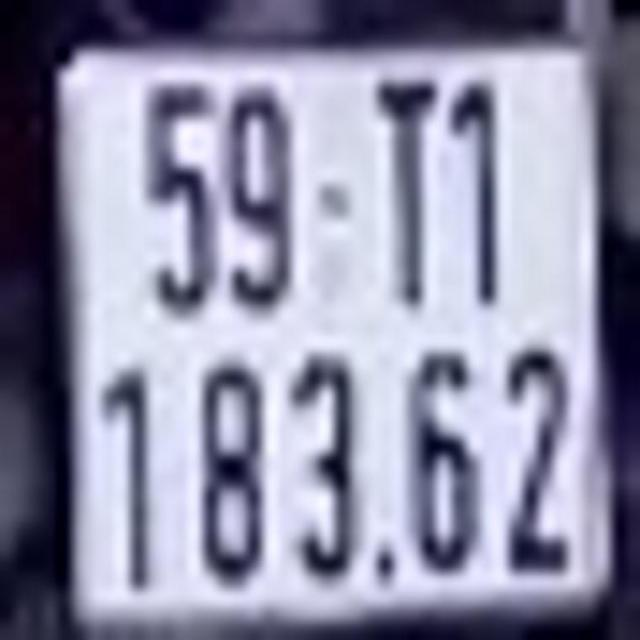1: (444, 72, 520, 306), (97, 357, 167, 594)
2: (503, 337, 574, 578)
3: (288, 343, 363, 588)
5: (142, 71, 216, 315)
6: (405, 338, 487, 580)
8: (196, 348, 269, 594)
9: (221, 66, 298, 319)
T: (372, 71, 442, 307)
